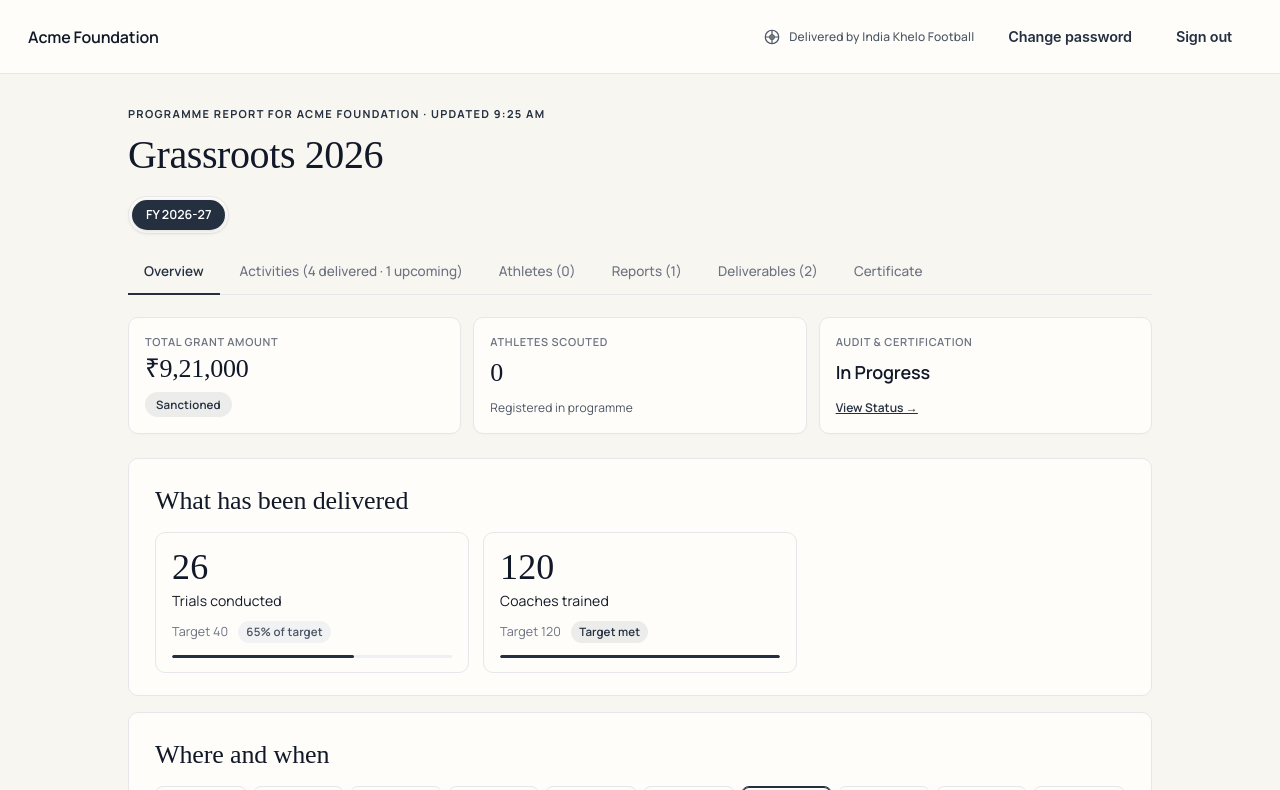
Scenario: a Planned activity is listed on the Activities tab, labelled Planned
The image size is (1280, 790).
Click the tab "Activities (4 delivered · 1 upcoming)". click: point(351, 272)
box: x1=224 y1=250 x2=479 y2=295
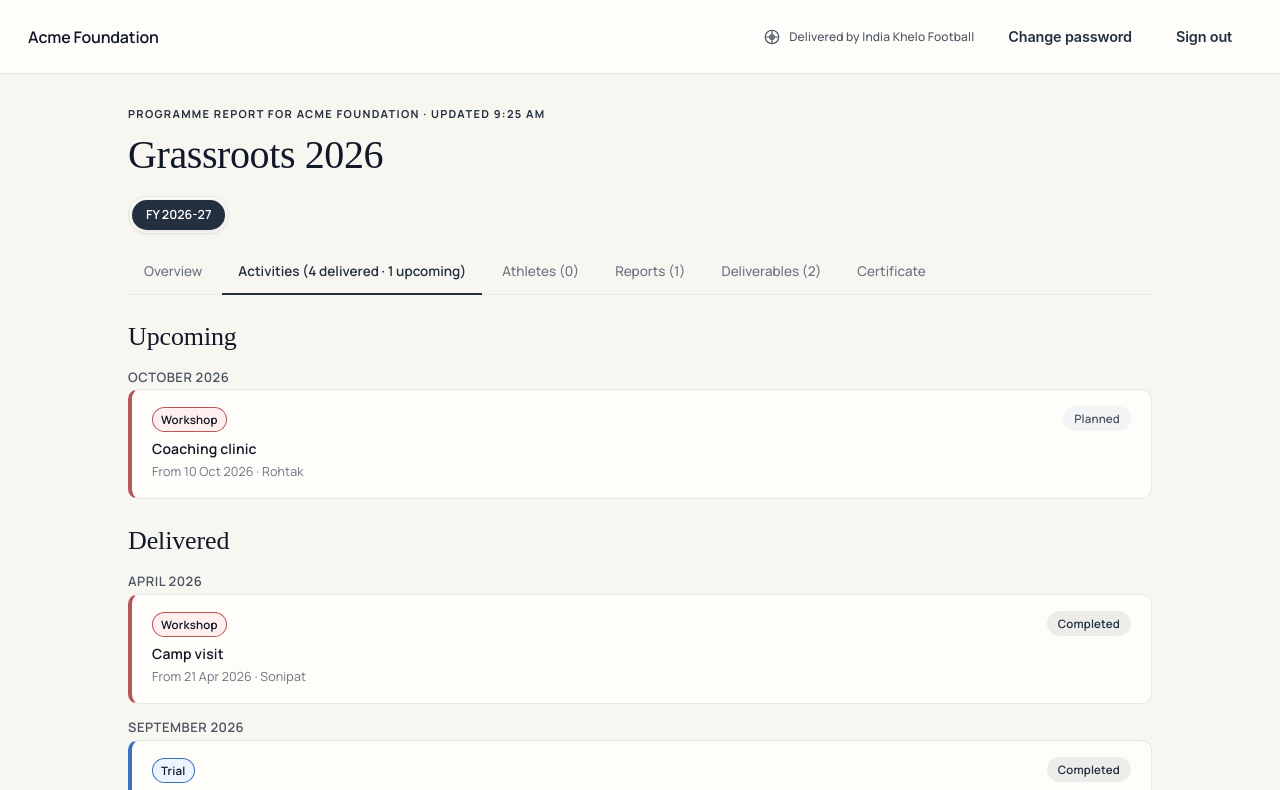
expect the text "Planned" is shown: met, box x1=1063 y1=406 x2=1131 y2=431
expect the 1st text "Completed" is shown: met, box x1=1047 y1=611 x2=1131 y2=636
